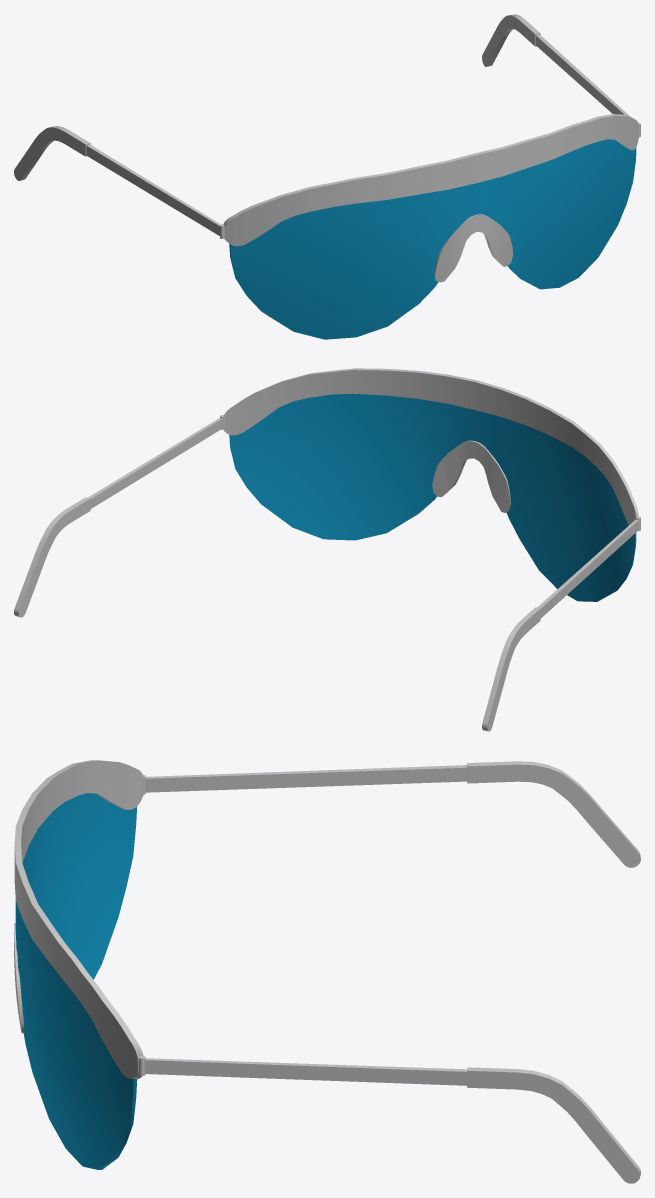
The model's file is glasses21.001.obj.
The picture shows the model from 3 angles, top to bottom: view 1: azimuth 30°, elevation 25°; view 2: azimuth 150°, elevation 25°; view 3: azimuth 270°, elevation 25°; orthographic projection. The views are drawn at different scales.
Parts seen in each view (by area): view 1: glasses21.001_glasses21.003_Material.008, glasses21.001_glasses21.003_black; view 2: glasses21.001_glasses21.003_Material.008, glasses21.001_glasses21.003_black; view 3: glasses21.001_glasses21.003_black, glasses21.001_glasses21.003_Material.008.
Part boxes in pixels (box(x1,y1,x2,y2)): glasses21.001_glasses21.003_Material.008: box(229, 139, 636, 339); glasses21.001_glasses21.003_black: box(14, 14, 640, 282); glasses21.001_glasses21.003_Material.008: box(229, 393, 636, 601); glasses21.001_glasses21.003_black: box(14, 368, 640, 731); glasses21.001_glasses21.003_black: box(14, 760, 640, 1183); glasses21.001_glasses21.003_Material.008: box(15, 793, 137, 1169).
Bounding box in the file's own units: 2.11 × 0.7317 × 1.75.
